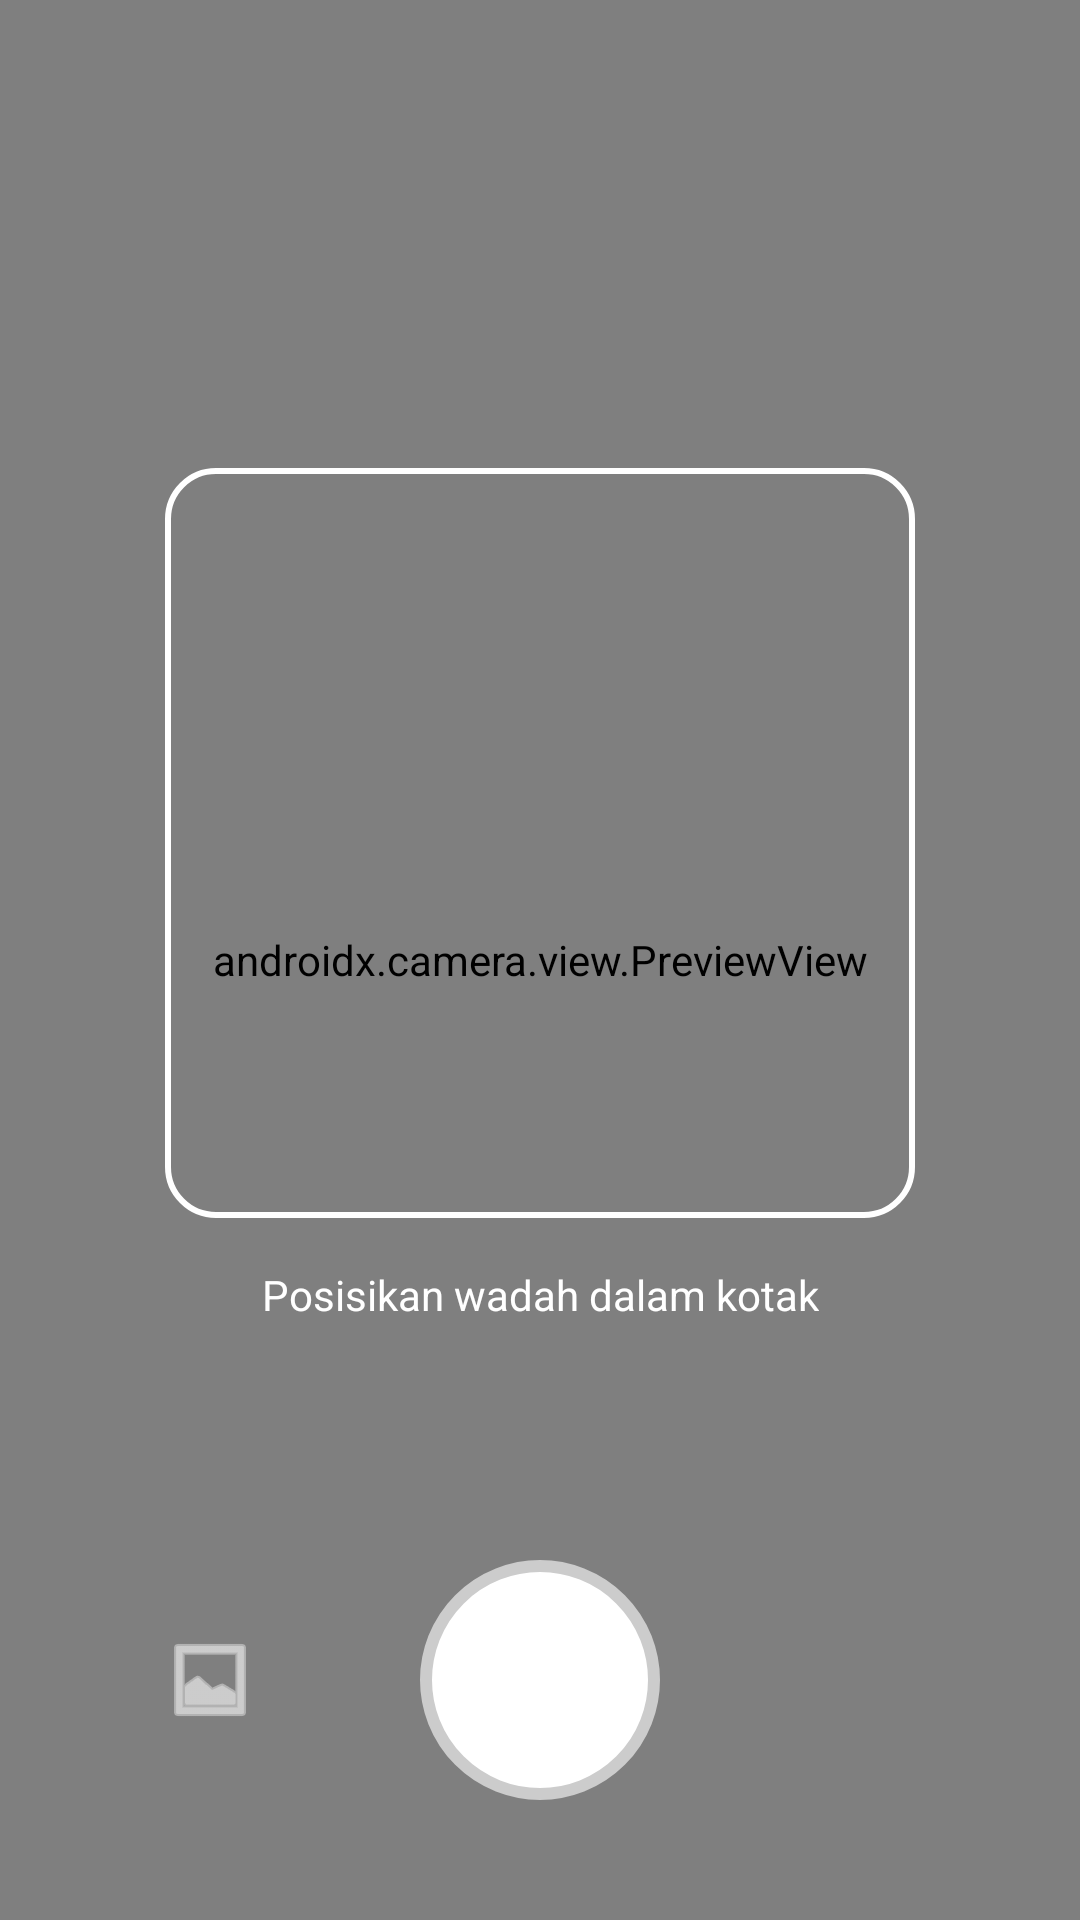

Screen size 1080x1920. Icon name, then its center in pixels as [x,y]:
gallery: [210,1680]
